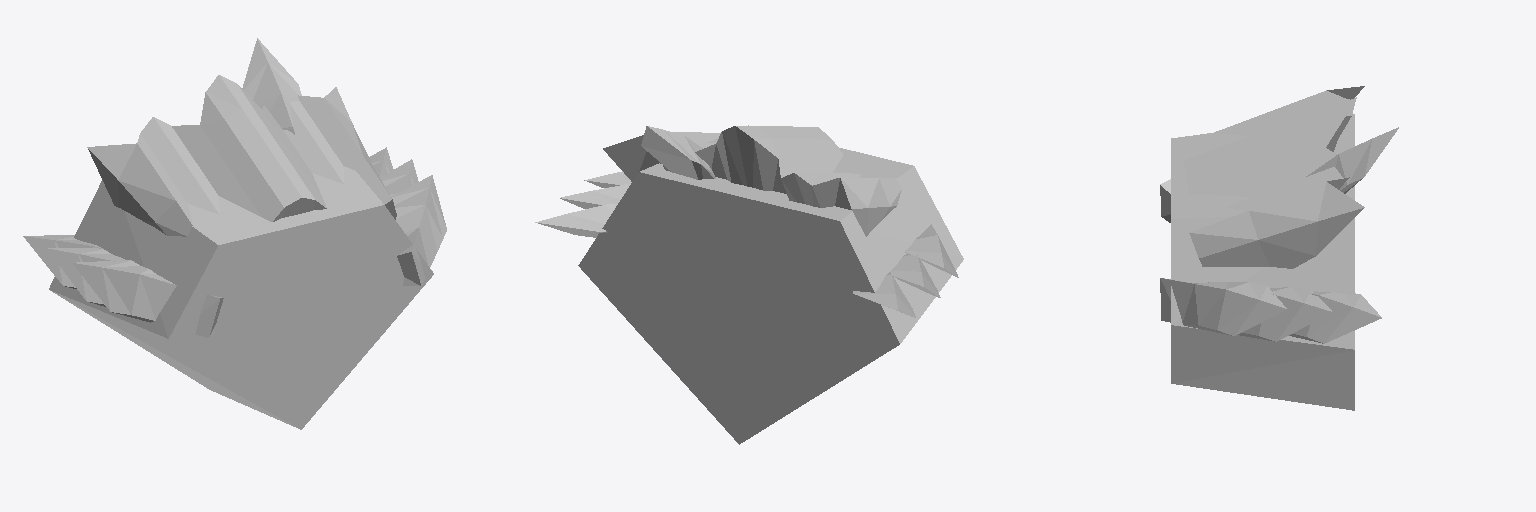
File: Tail5.obj
The picture shows the model from 3 angles: view 1: azimuth 30°, elevation 25°; view 2: azimuth 150°, elevation 25°; view 3: azimuth 270°, elevation 25°; orthographic projection.
Parts seen in each view (by area): view 1: 立方体.023; view 2: 立方体.023; view 3: 立方体.023.
Boxes of the visible parts, <box> form: 立方体.023: <box>23,38,446,429</box>; 立方体.023: <box>535,125,963,444</box>; 立方体.023: <box>1160,86,1398,410</box>.
Size of the model in its own units: 1.83 by 1.52 by 1.04.